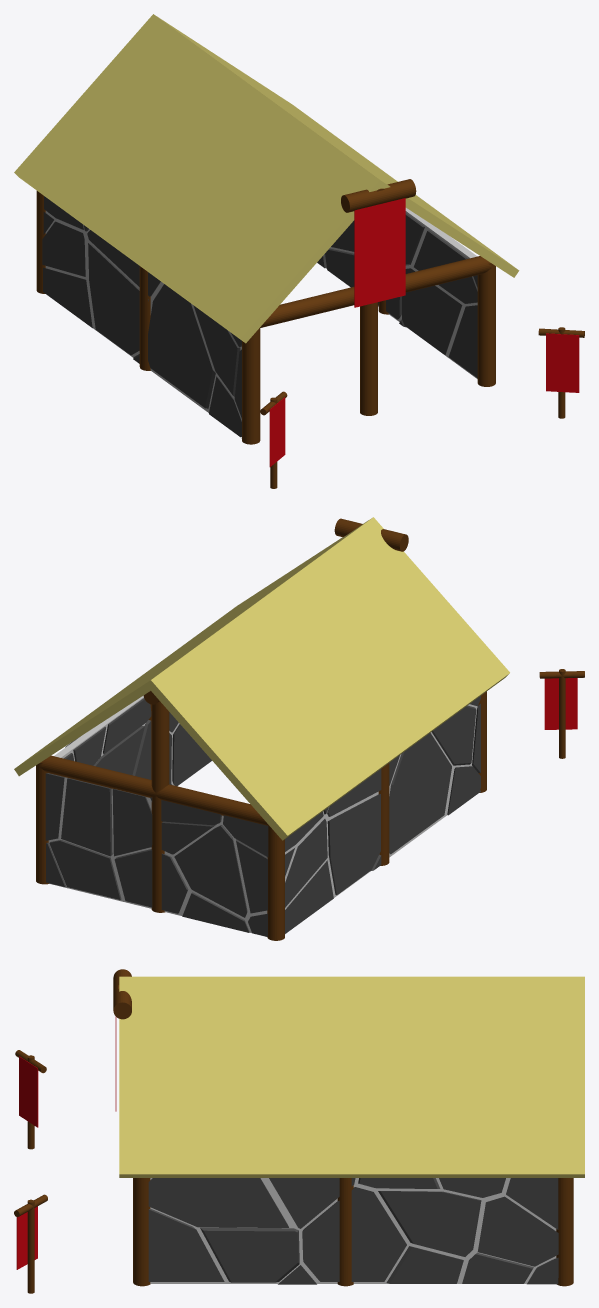
File: ChieftainsHut.fbx
3 views of the same model, one above another, from view 1: azimuth 30°, elevation 25°; view 2: azimuth 150°, elevation 25°; view 3: azimuth 270°, elevation 25° (orthographic). The views are drawn at different scales.
Visible parts, largest first — view 1: Roof, Stone Wall, Struts, Flag, Banners, Clay Wall; view 2: Roof, Stone Wall, Struts, Clay Wall, Banners; view 3: Roof, Stone Wall, Struts, Clay Wall, Banners.
Boxes of the visible parts, left/top/right/bottom form: Roof: left=14, top=14, right=519, bottom=343; Stone Wall: left=42, top=196, right=477, bottom=438; Struts: left=36, top=179, right=495, bottom=444; Flag: left=354, top=198, right=405, bottom=307; Banners: left=260, top=327, right=584, bottom=488; Clay Wall: left=45, top=208, right=477, bottom=412; Roof: left=14, top=517, right=509, bottom=840; Stone Wall: left=45, top=696, right=480, bottom=936; Struts: left=36, top=518, right=486, bottom=940; Clay Wall: left=48, top=695, right=477, bottom=932; Banners: left=539, top=669, right=584, bottom=758; Roof: left=119, top=976, right=584, bottom=1177; Stone Wall: left=148, top=1178, right=558, bottom=1284; Struts: left=113, top=969, right=573, bottom=1286; Clay Wall: left=150, top=1178, right=556, bottom=1283; Banners: left=14, top=1050, right=47, bottom=1293.
Bounding box in the file's own units: 211 × 150 × 314.
